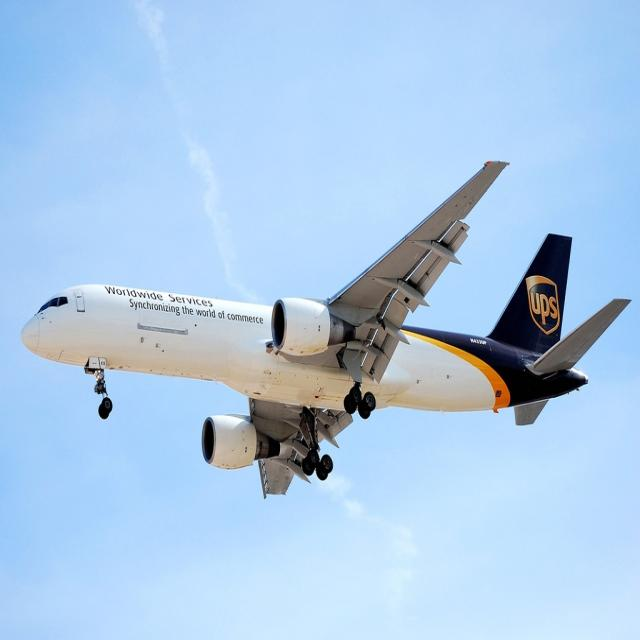ups: (526, 275, 561, 337)
